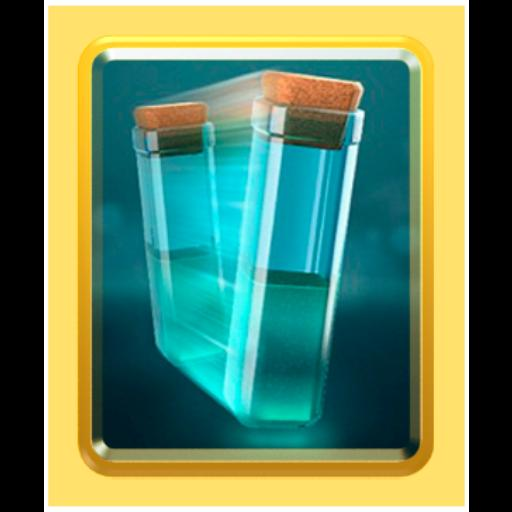clone: (92, 64, 418, 452)
